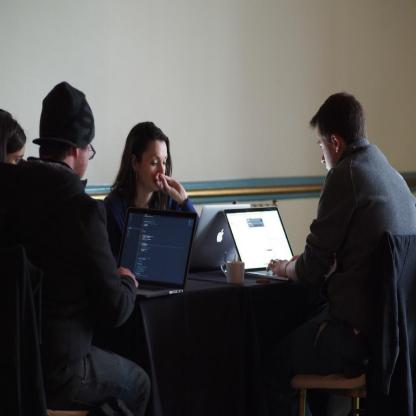board: (113, 204, 198, 302), (222, 205, 294, 280), (188, 205, 251, 274)
